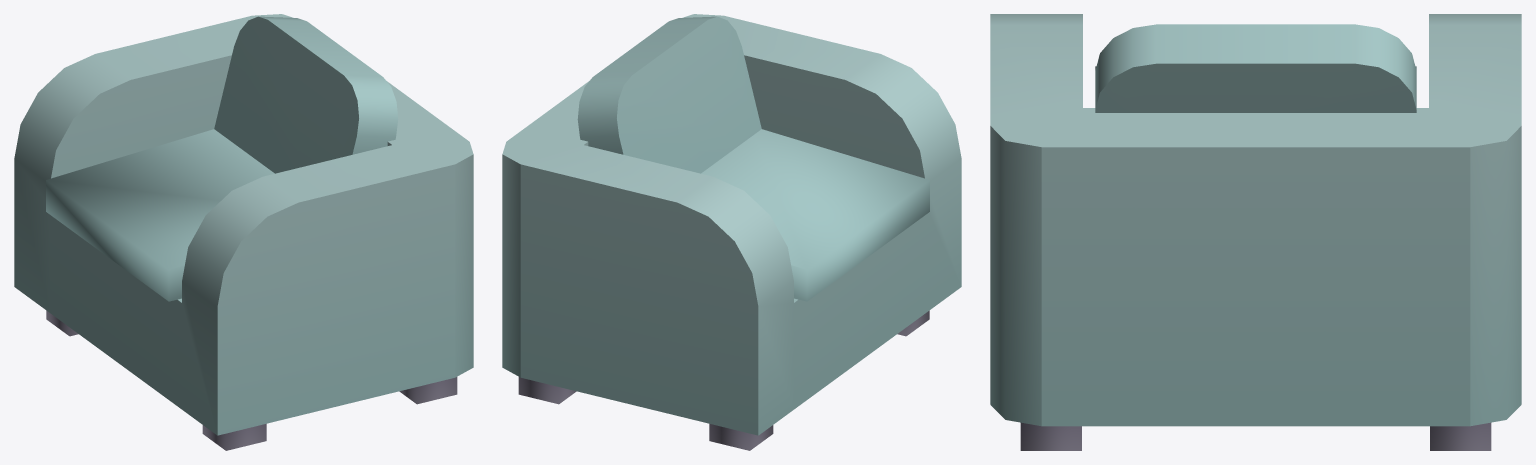
File: budapest-chair.glb
3 views of the same model, side by side, from view 1: azimuth 30°, elevation 25°; view 2: azimuth 150°, elevation 25°; view 3: azimuth 270°, elevation 25° (orthographic). The views are drawn at different scales.
Parts seen in each view (by area): view 1: budapest-chair; view 2: budapest-chair; view 3: budapest-chair.
Part boxes in pixels (x1=…): budapest-chair: x1=14, y1=14, x2=473, y2=450; budapest-chair: x1=502, y1=14, x2=961, y2=450; budapest-chair: x1=990, y1=14, x2=1521, y2=450.
Bounding box in the file's own units: 0.693 × 0.6995 × 0.87.
